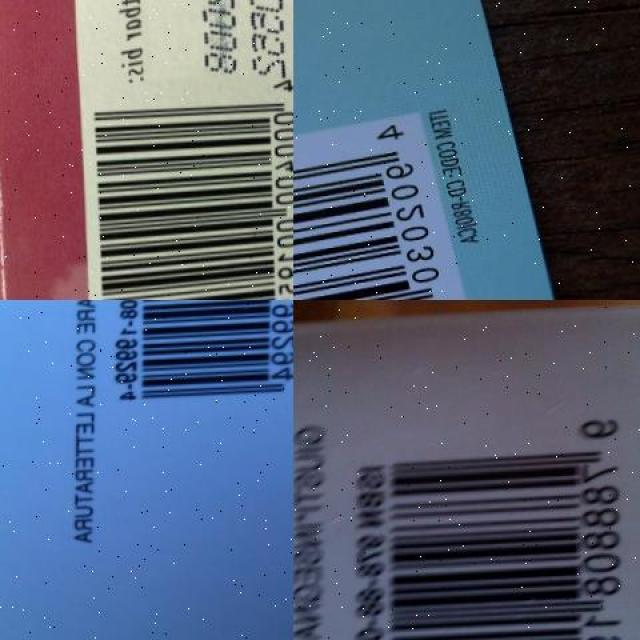Barcode: (337, 408, 640, 640), (74, 80, 294, 300), (294, 112, 510, 300), (111, 300, 293, 423)
